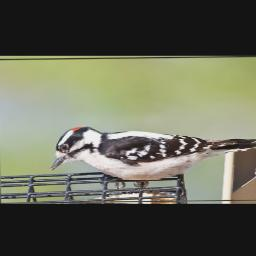Woodpecker: (49, 122, 256, 189)
